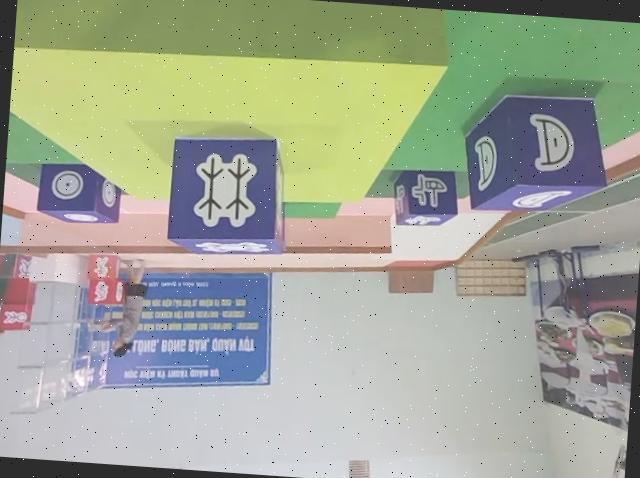R2 Real Blue: (462, 87, 613, 217), (163, 128, 291, 257), (35, 158, 124, 224), (389, 165, 460, 228)
